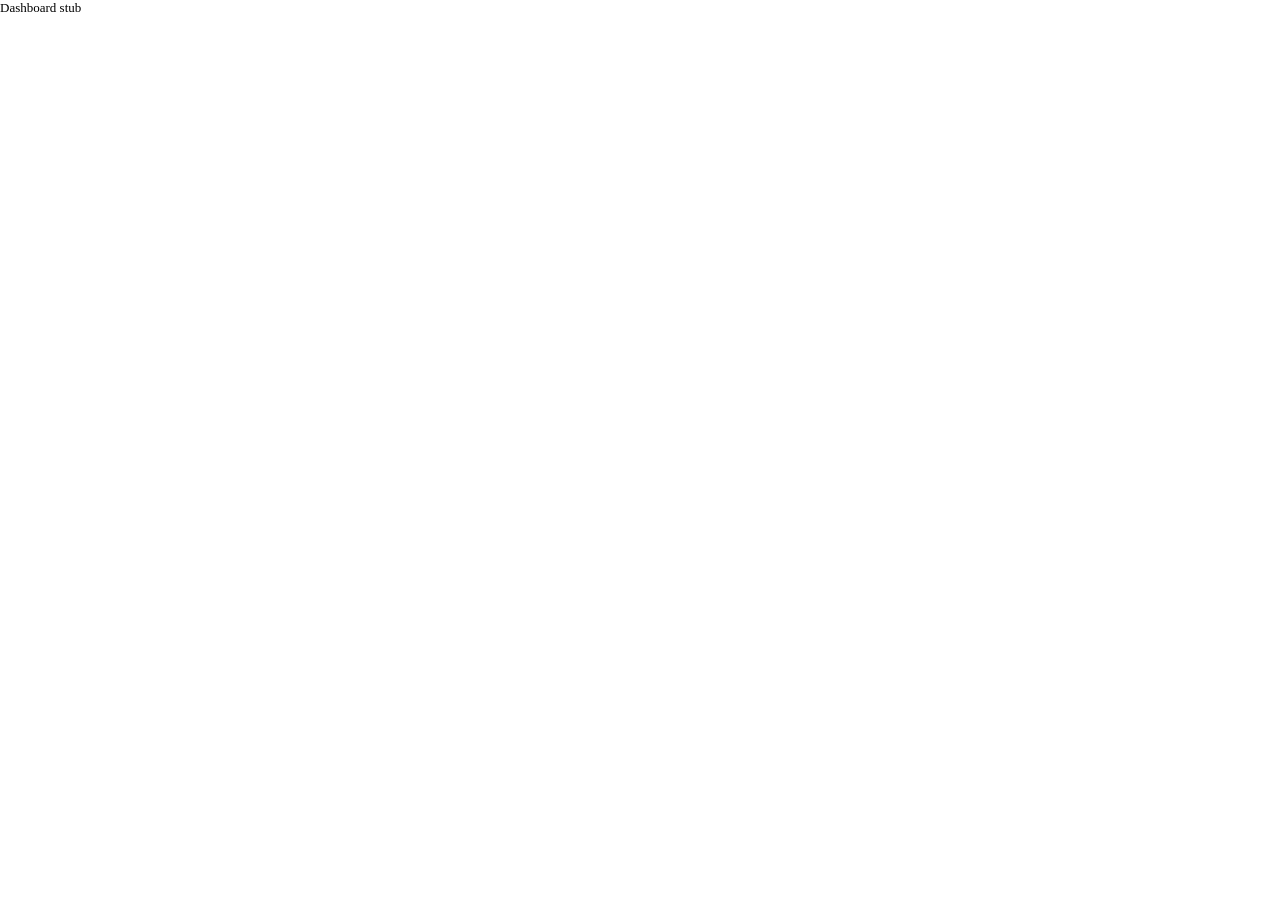
Test case: CommandPalette › Create part navigates to the create-part stub route and closes the palette
This screenshot has width=1280, height=900.
Press k
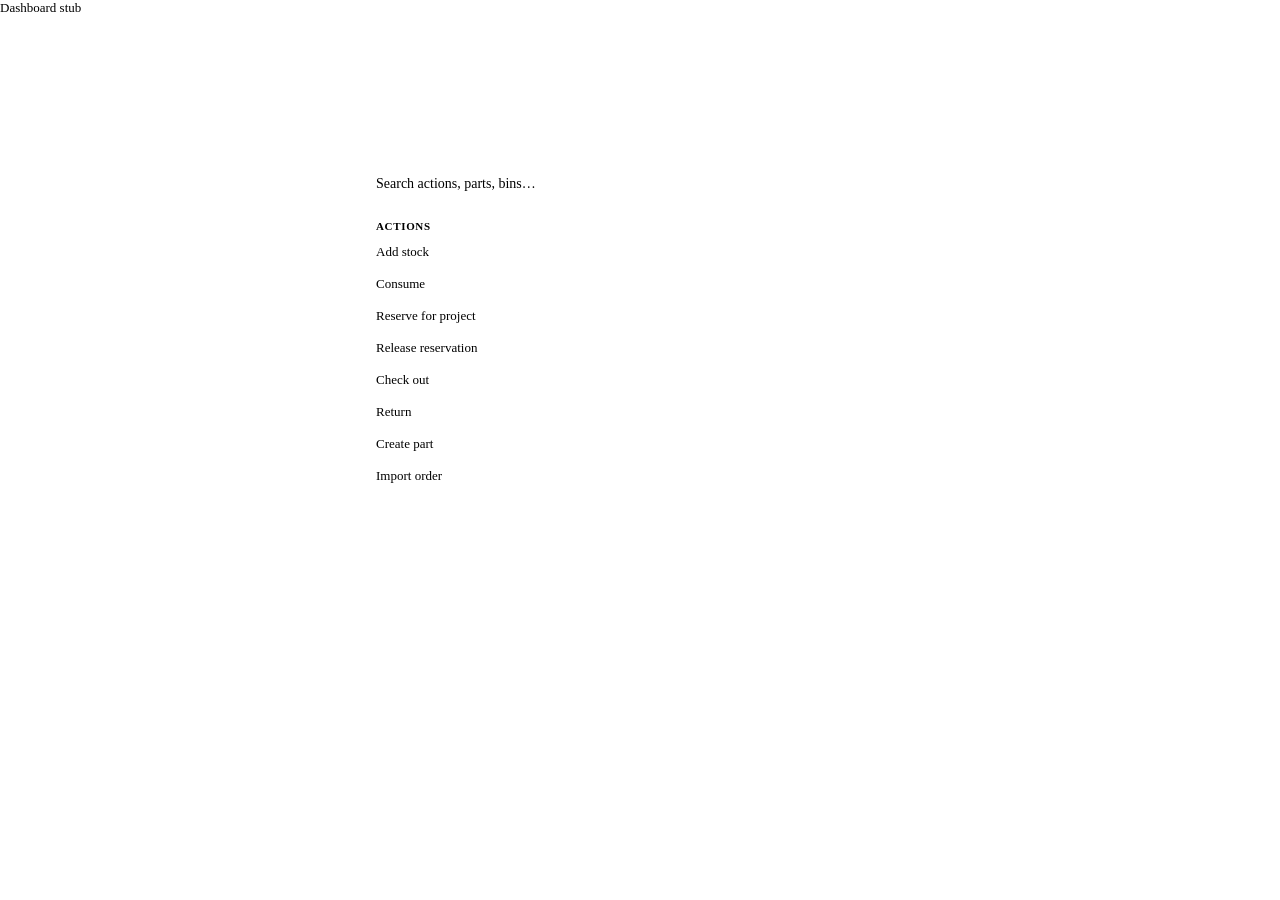
Click the option "Create part": {"x": 405, "y": 444} [376,436,433,451]
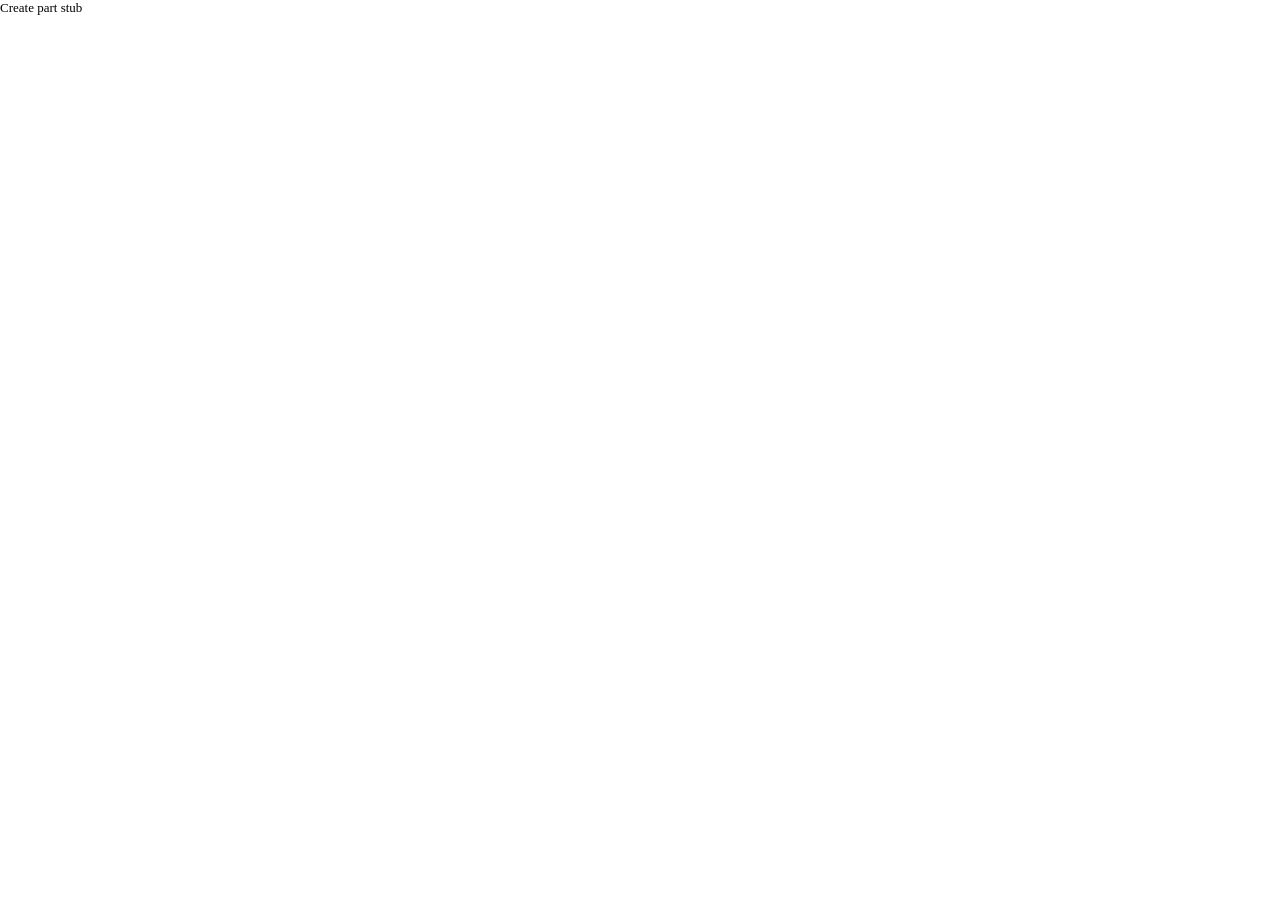
Expected: the text "Create part stub" is shown, [0,0,82,15]
Expected: the dropdown is gone
